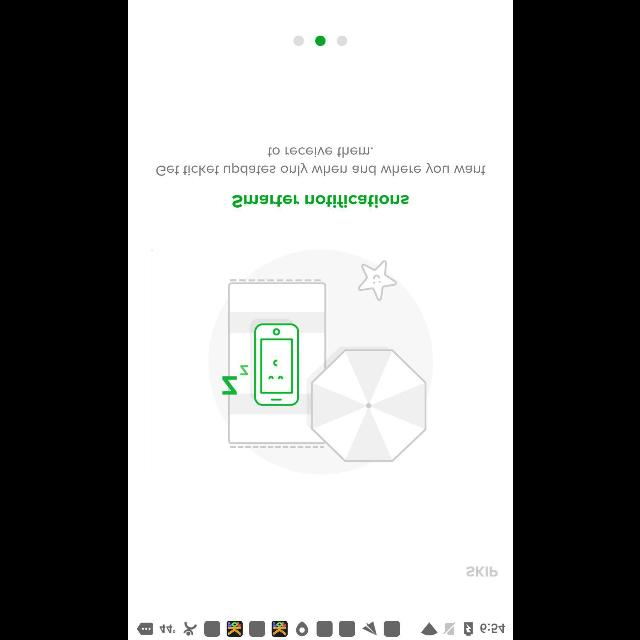image: (205, 249, 433, 475)
pageindicator: (293, 36, 347, 46)
text: (155, 147, 485, 177), (231, 194, 409, 208), (465, 566, 497, 578)
uppertaskbar: (128, 617, 512, 639)
